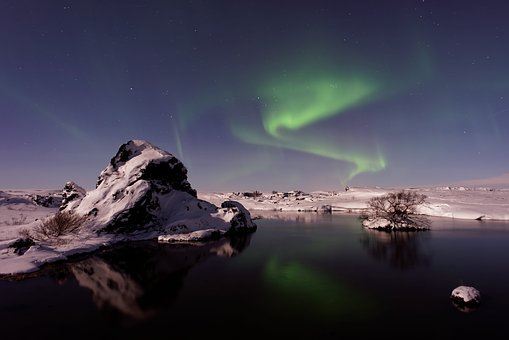lake: (46, 221, 502, 340)
sky: (1, 2, 504, 179)
stone: (31, 140, 249, 245)
